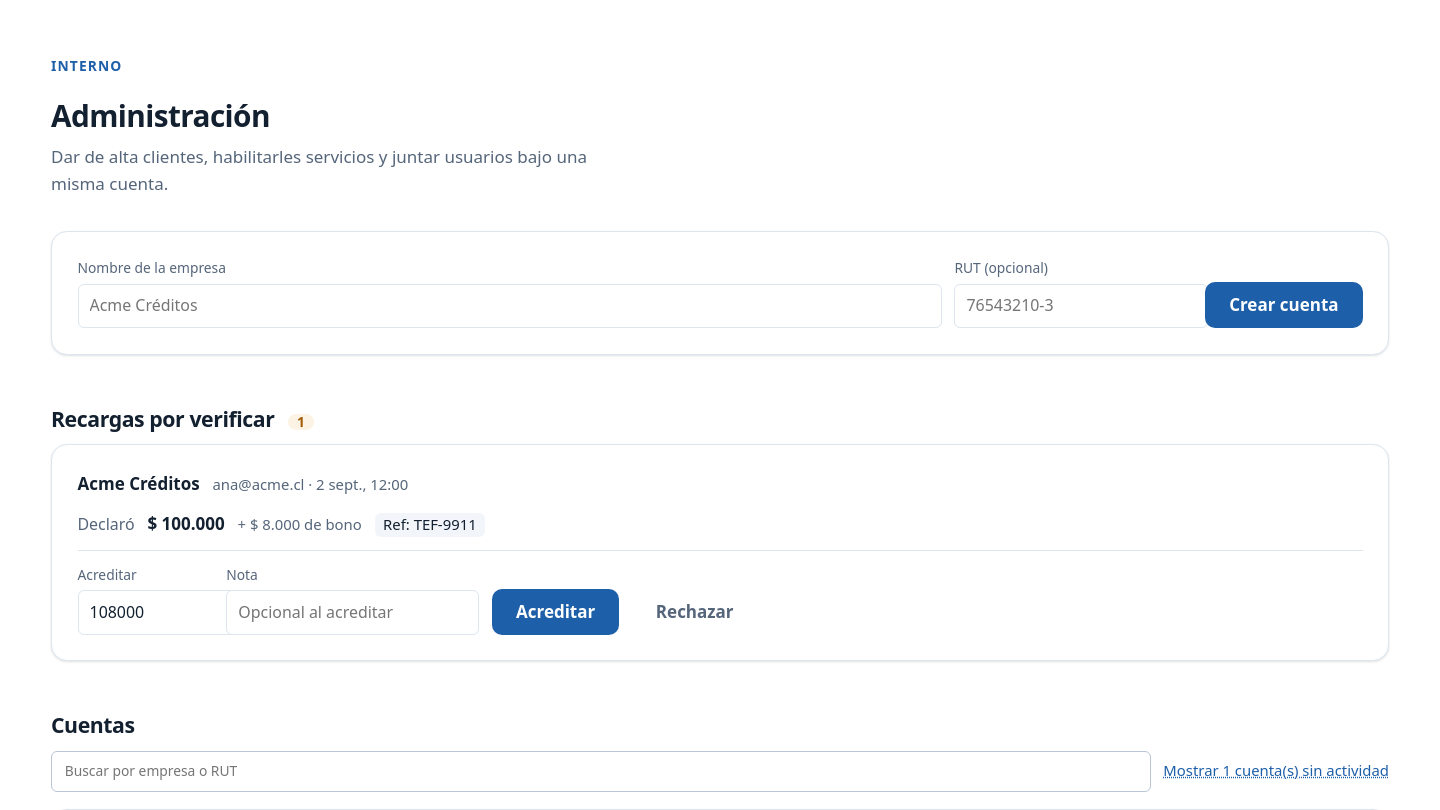
Scenario: AdminComponent › ruido en las listas › la búsqueda encuentra también las cuentas sin actividad
Type "curioso" into the search field with placeholder "Buscar por empresa o RUT" at coordinates (601, 771), box [51, 750, 1151, 792]
(page scrolled)
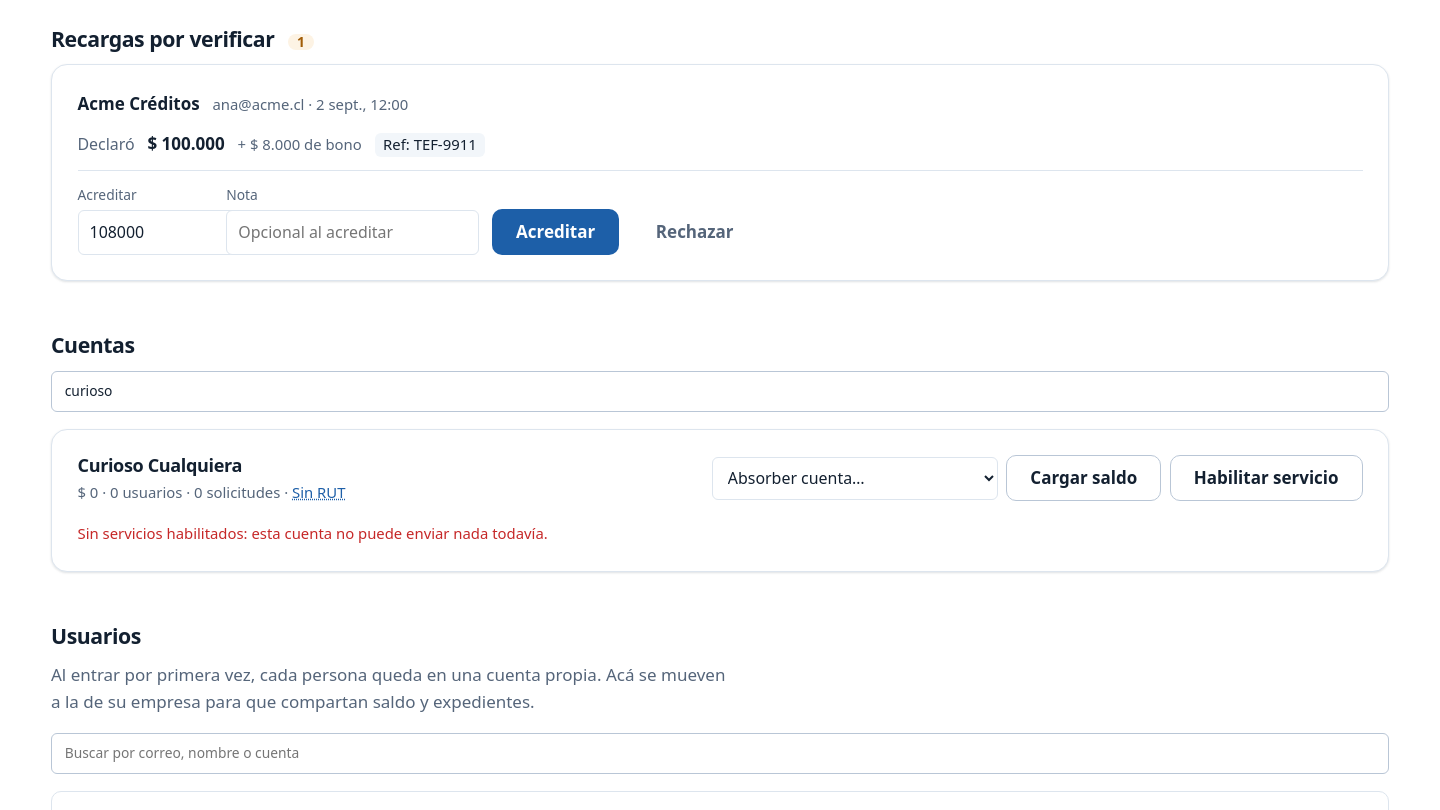
Expected: the number of list items with class "cuenta" is 1, [51, 429, 1389, 572]
Result: the heading with class "cuenta__nombre" shows "Curioso" at [78, 453, 242, 477]
